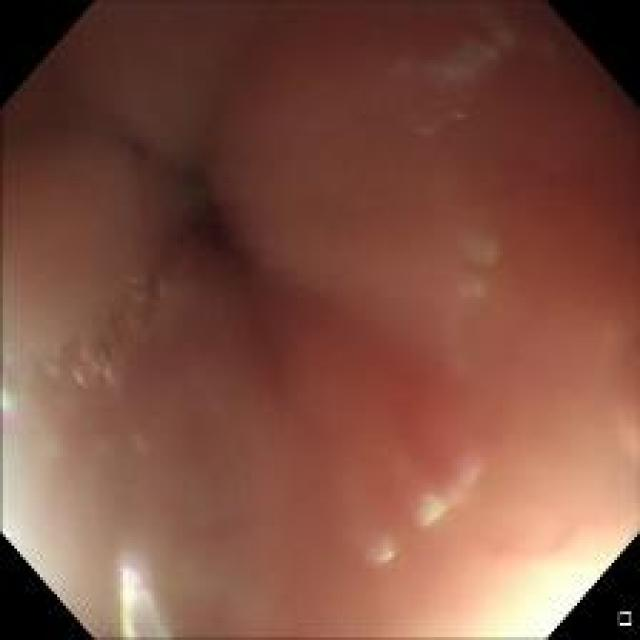blur: (60, 85, 404, 476)
bubbles: (119, 269, 181, 308), (95, 338, 124, 385)
color misalignment: (379, 24, 548, 141), (361, 522, 409, 572), (0, 378, 19, 422)
saturation: (459, 516, 632, 635)
specularity: (118, 556, 171, 638)
